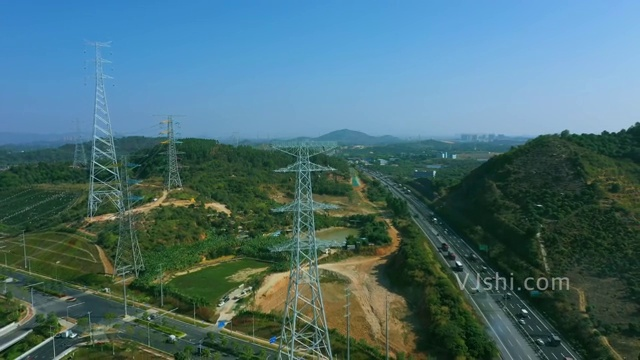tower_body: (260, 137, 358, 360)
tower_foot: (278, 311, 338, 360)
tower_head: (265, 139, 349, 176)
